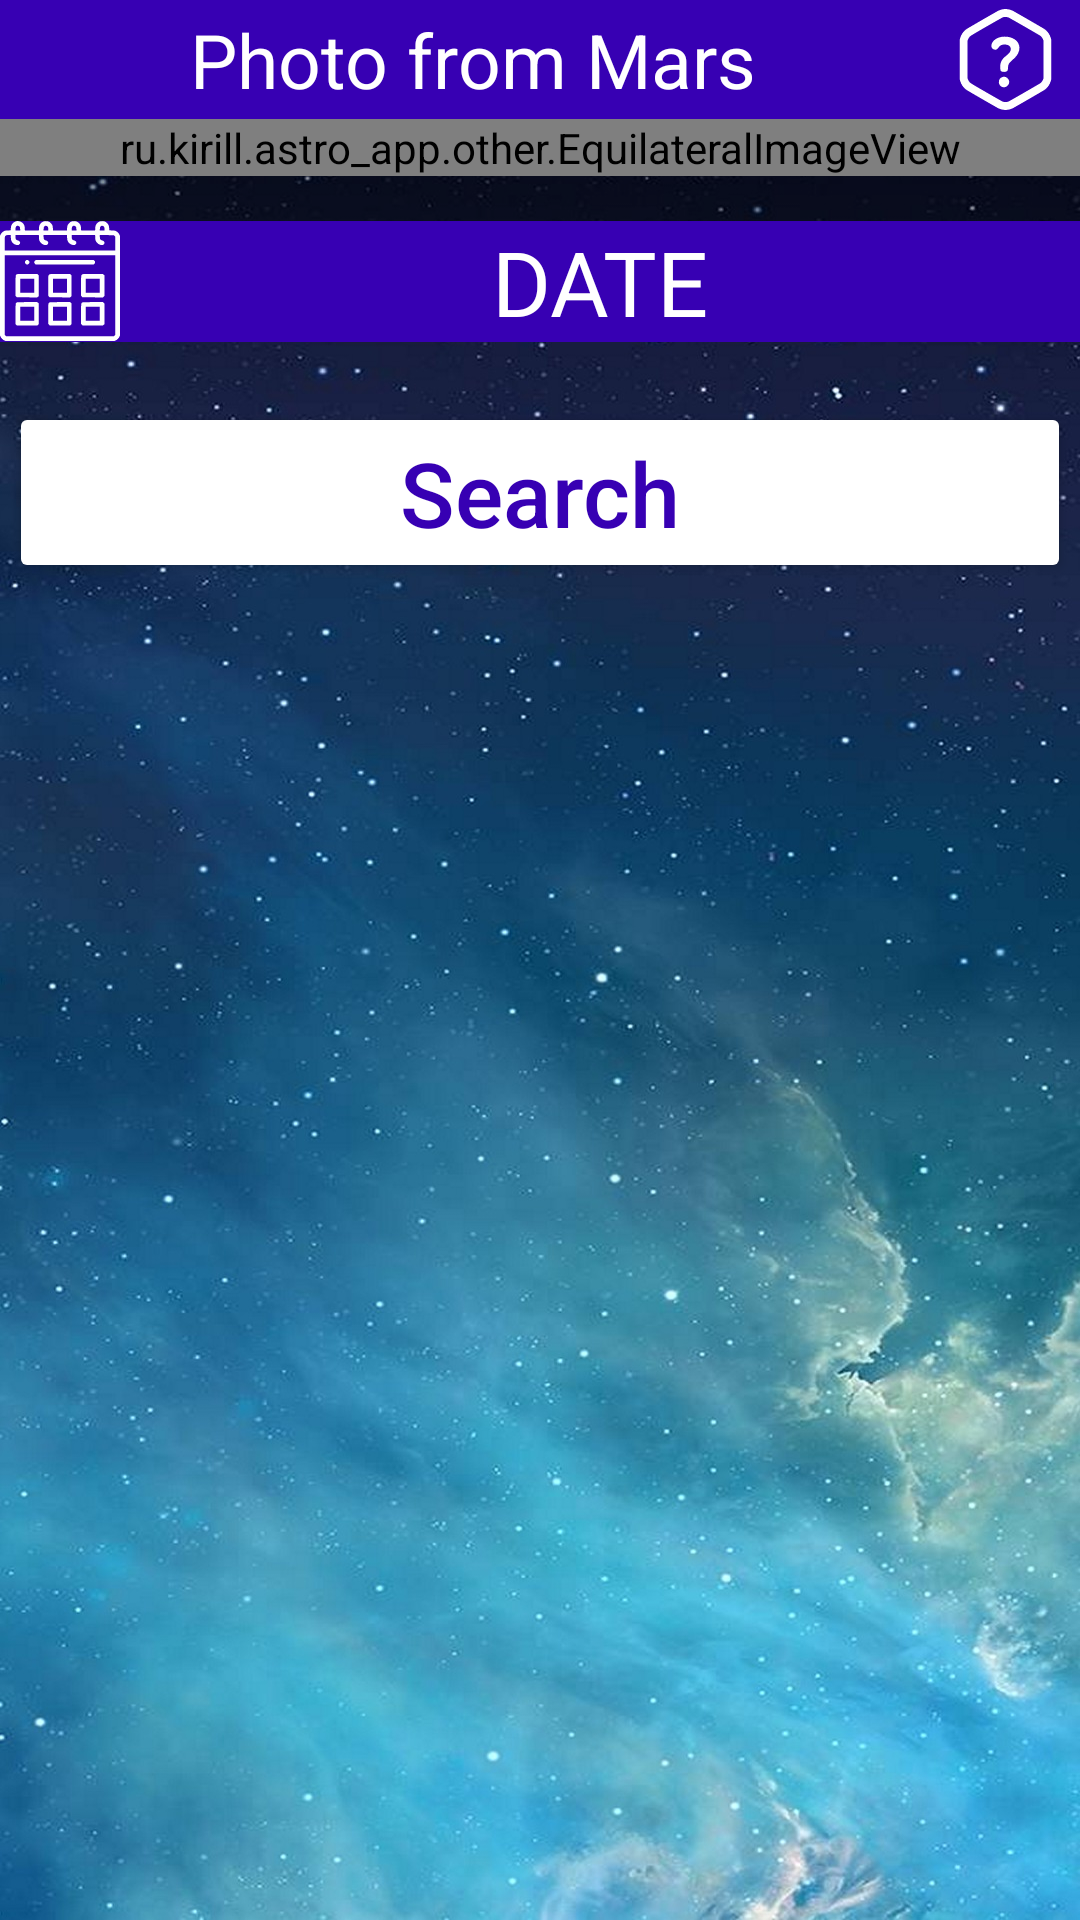

Icons on this 1080 x 1920 Android screen, each with the point to tap as point (x, y):
calendar: point (60, 281)
help: point (1005, 59)
